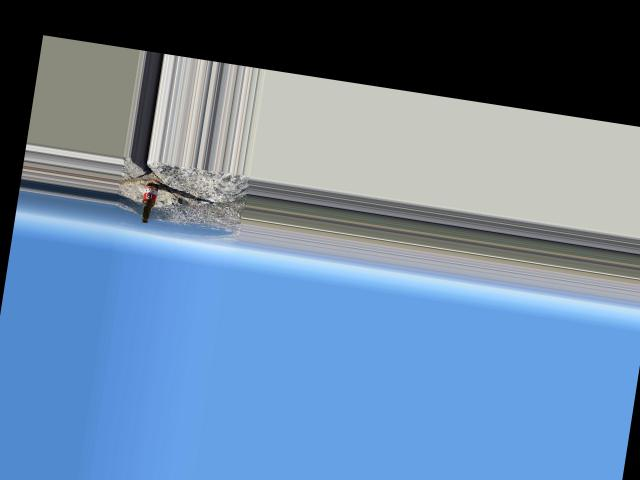beer: (139, 183, 158, 223)
